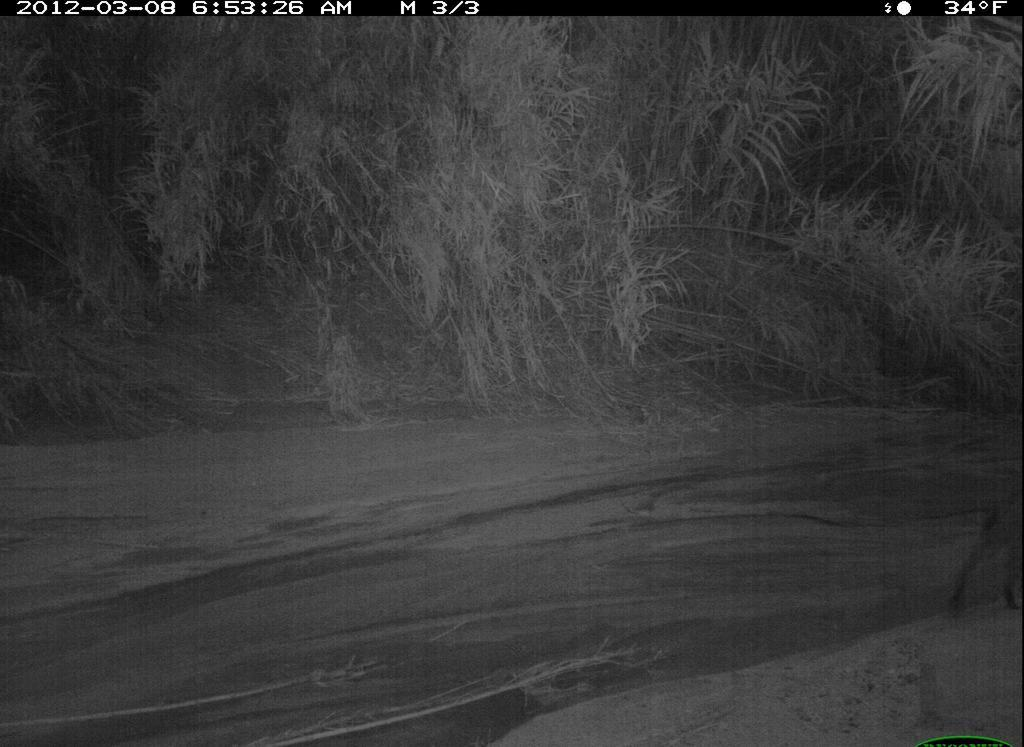bobcat: (939, 482, 1024, 637)
